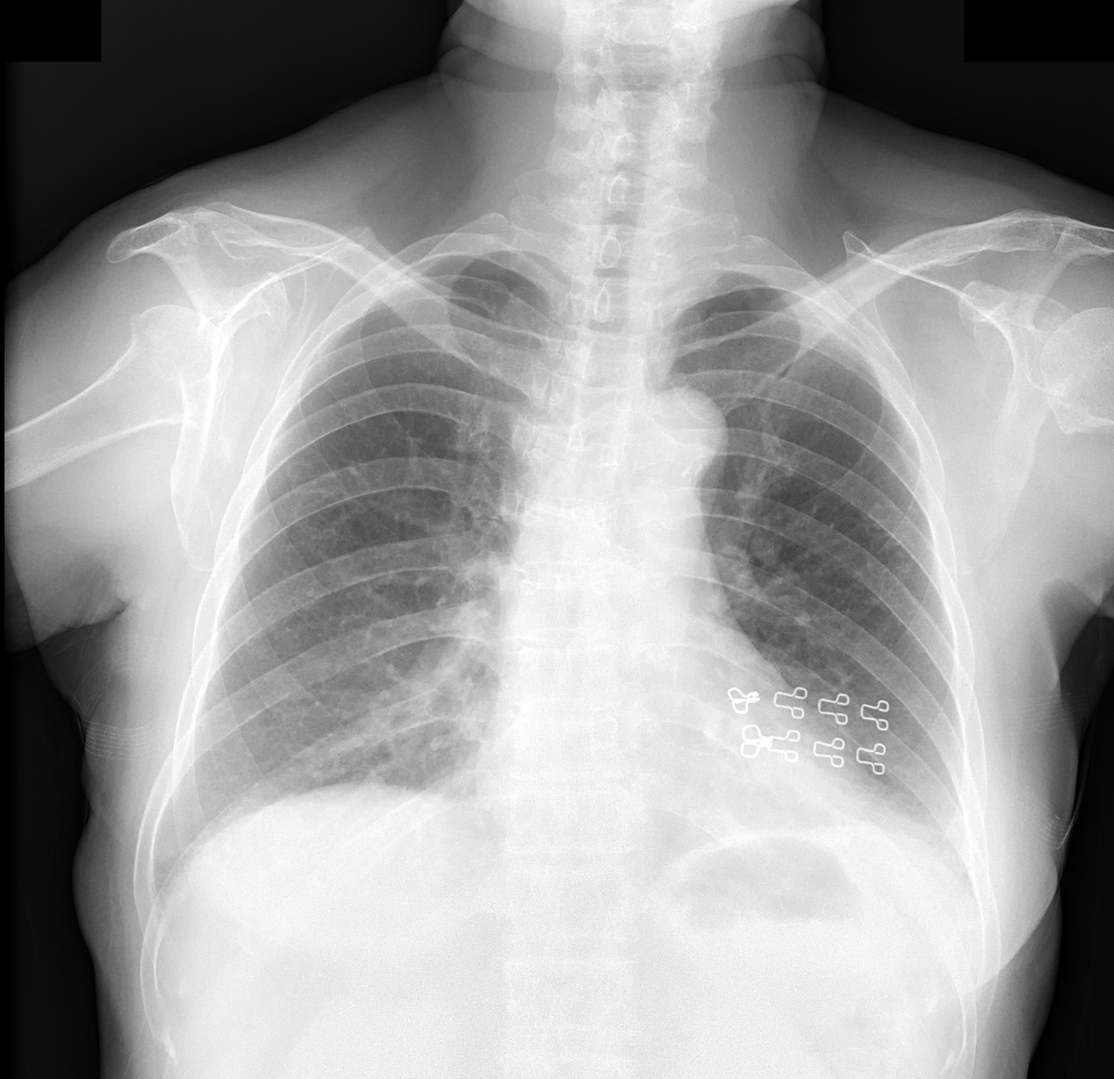Aortic enlargement: (613, 385, 731, 504)
Cardiomegaly: (469, 709, 904, 833)
